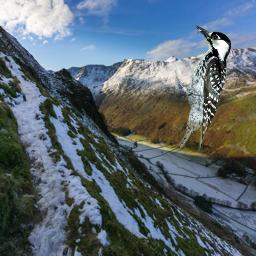Woodpecker: (175, 24, 231, 152)
